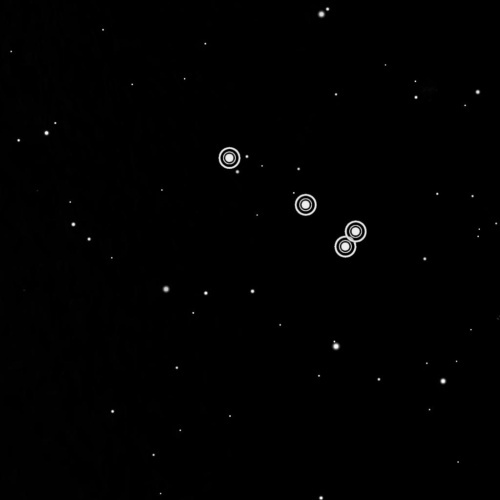sagitta: (211, 140, 375, 262)
